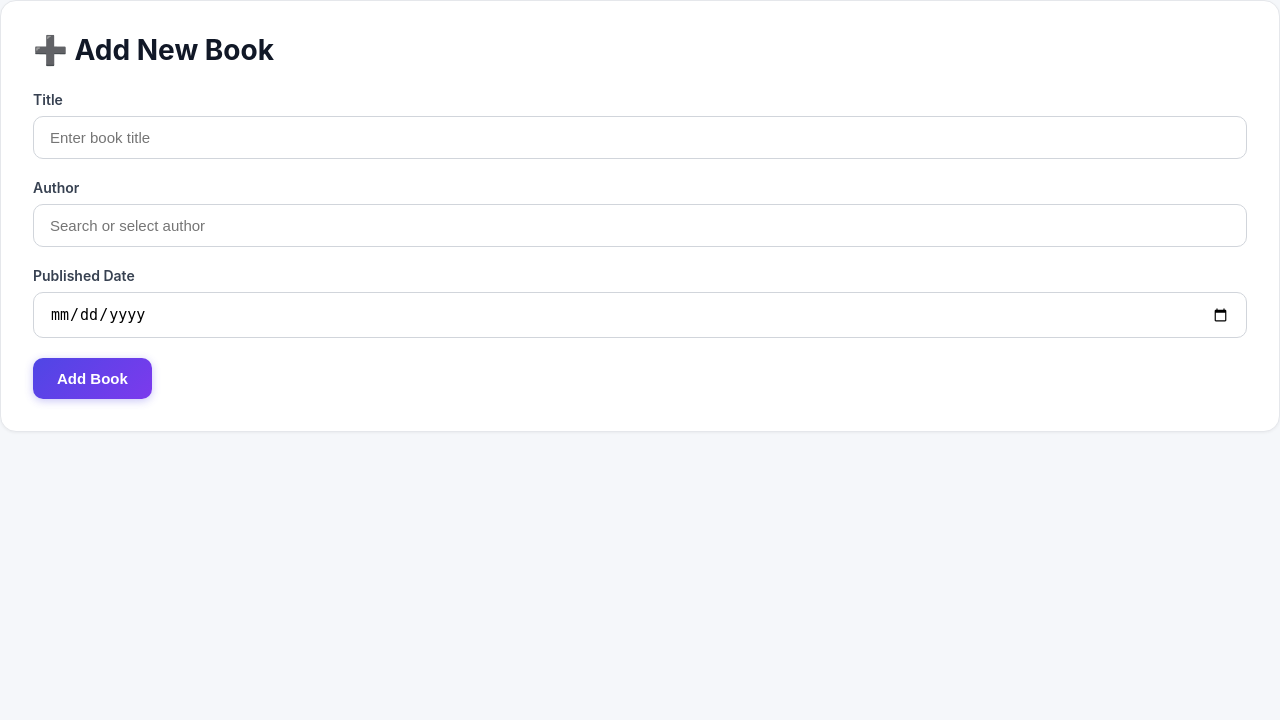
Test case: AddBook Component › shows error popup when book creation fails
The image size is (1280, 720).
Click the button with test id "add-book-button": (92, 378) [33,358,152,399]
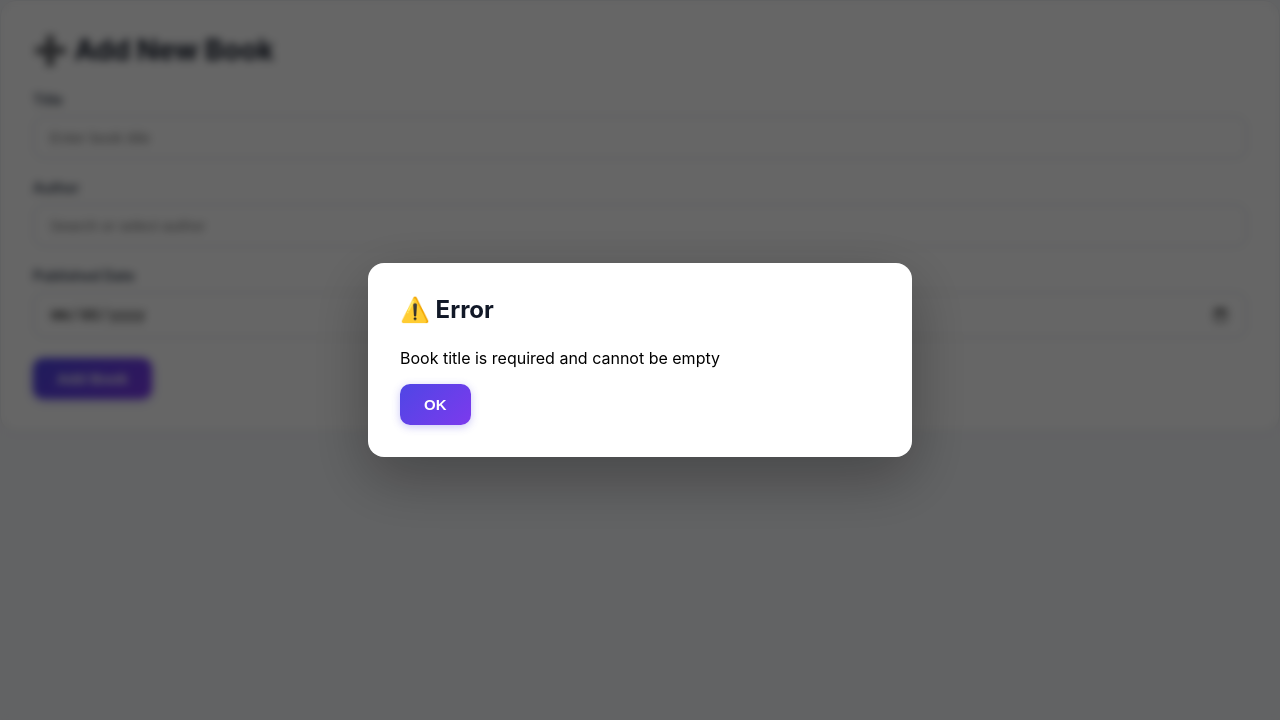
Now the text "Book title is required and cannot be empty" is shown, box [400,348,720,368]
